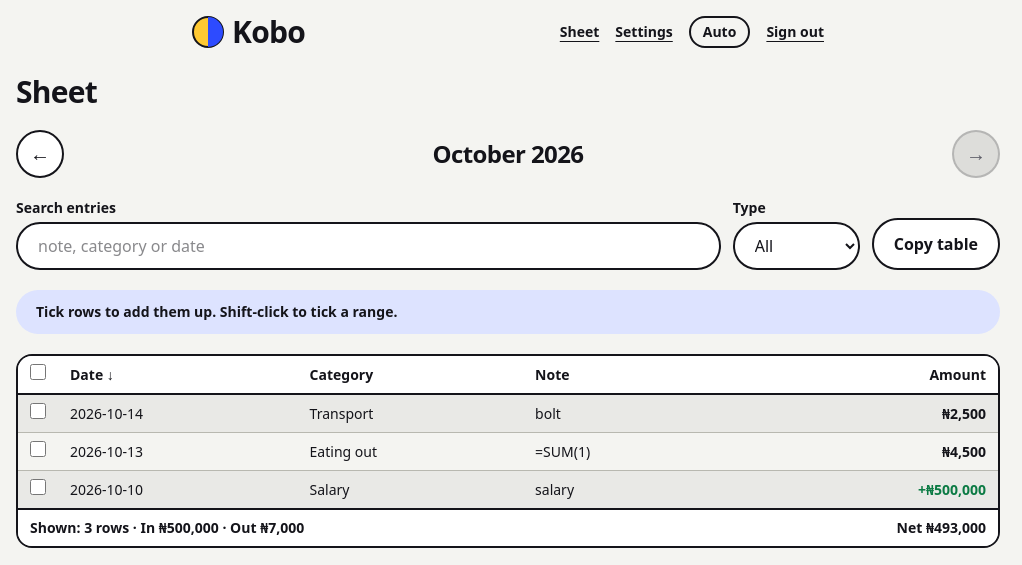
SheetPage › copies the table as tab-separated text that cannot run formulas
This screenshot has width=1022, height=565.
Click the button "Copy table" at coordinates (936, 244), box left=872, top=218, right=1000, bottom=270
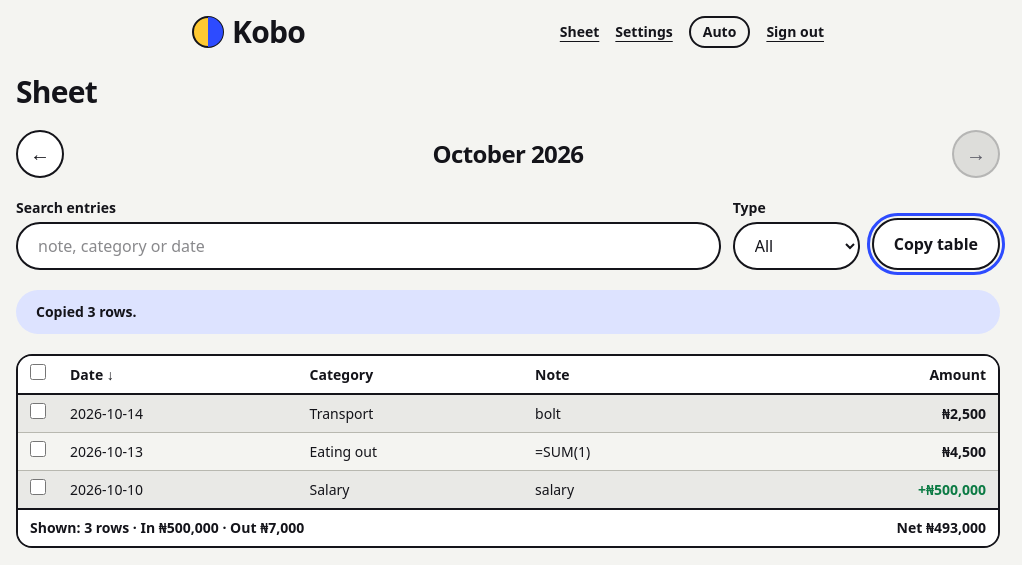
Now the text "Copied 3 rows." is shown, box left=16, top=290, right=1000, bottom=334
